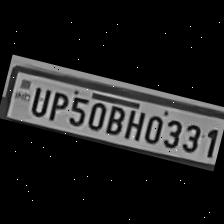0: (82, 94, 108, 132), (139, 108, 166, 144)
1: (197, 122, 222, 157)
3: (158, 113, 184, 150), (178, 116, 204, 153)
5: (62, 88, 90, 127)
B: (102, 100, 128, 136)
H: (120, 102, 148, 140)
P: (43, 85, 70, 122)
U: (24, 80, 52, 117)
